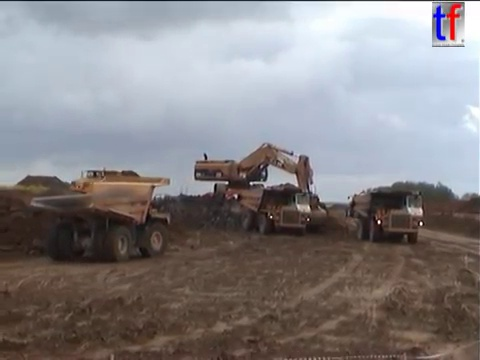excavator: (191, 141, 328, 227), (199, 187, 270, 212)
truck: (28, 173, 171, 262), (350, 189, 426, 245), (230, 184, 313, 234), (69, 167, 148, 202), (343, 192, 382, 219)
